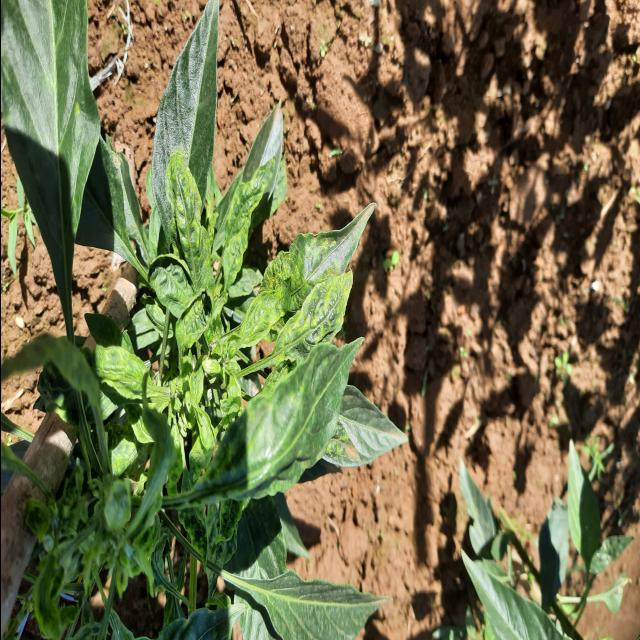thrips: (264, 256, 350, 398), (165, 130, 200, 290)
